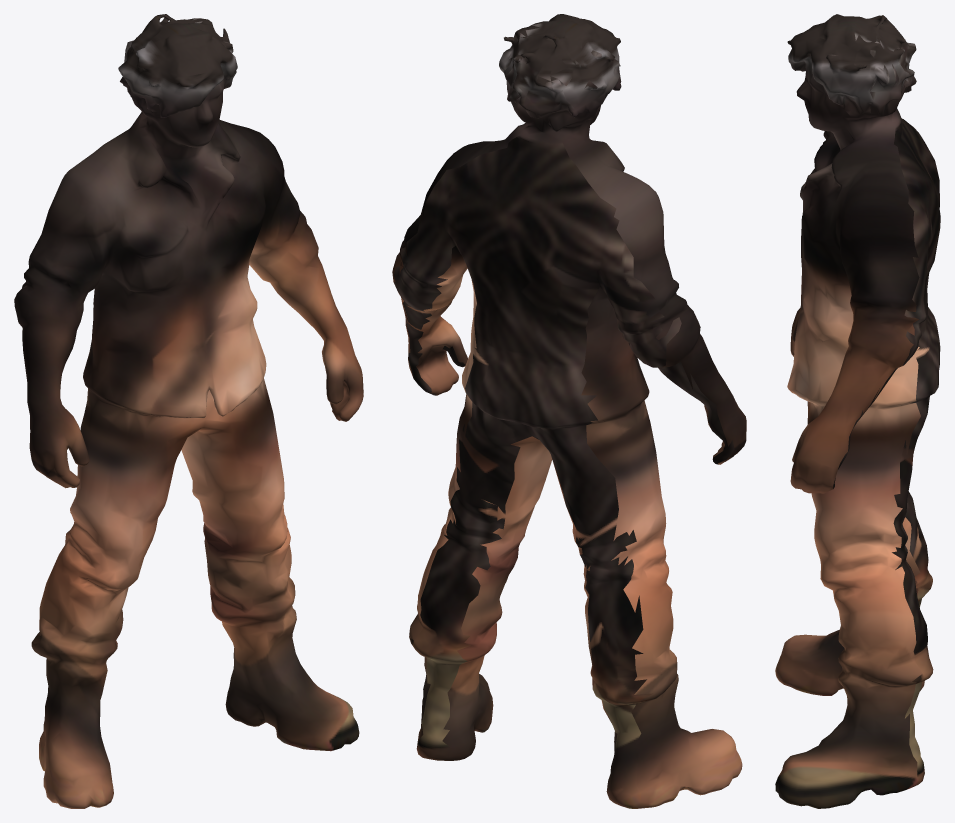
The model's file is plain-body.fbx.
The picture shows the model from 3 angles, left to right: view 1: azimuth 30°, elevation 25°; view 2: azimuth 150°, elevation 25°; view 3: azimuth 270°, elevation 25°; orthographic projection. The views are drawn at different scales.
Parts seen in each view (by area): view 1: authored silhouette / existing Hunyuan scan, decimated; view 2: authored silhouette / existing Hunyuan scan, decimated; view 3: authored silhouette / existing Hunyuan scan, decimated.
Boxes of the visible parts, box(x1,y1,x2,y2) form: authored silhouette / existing Hunyuan scan, decimated: box(14, 14, 363, 808); authored silhouette / existing Hunyuan scan, decimated: box(392, 14, 746, 808); authored silhouette / existing Hunyuan scan, decimated: box(775, 14, 940, 808).
Bounding box in the file's own units: 84.79 × 182 × 37.94.
